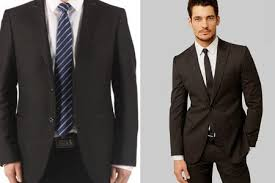F_M_suit jacket: (2, 2, 140, 172), (166, 39, 270, 168)
F_belt: (44, 133, 86, 150)
